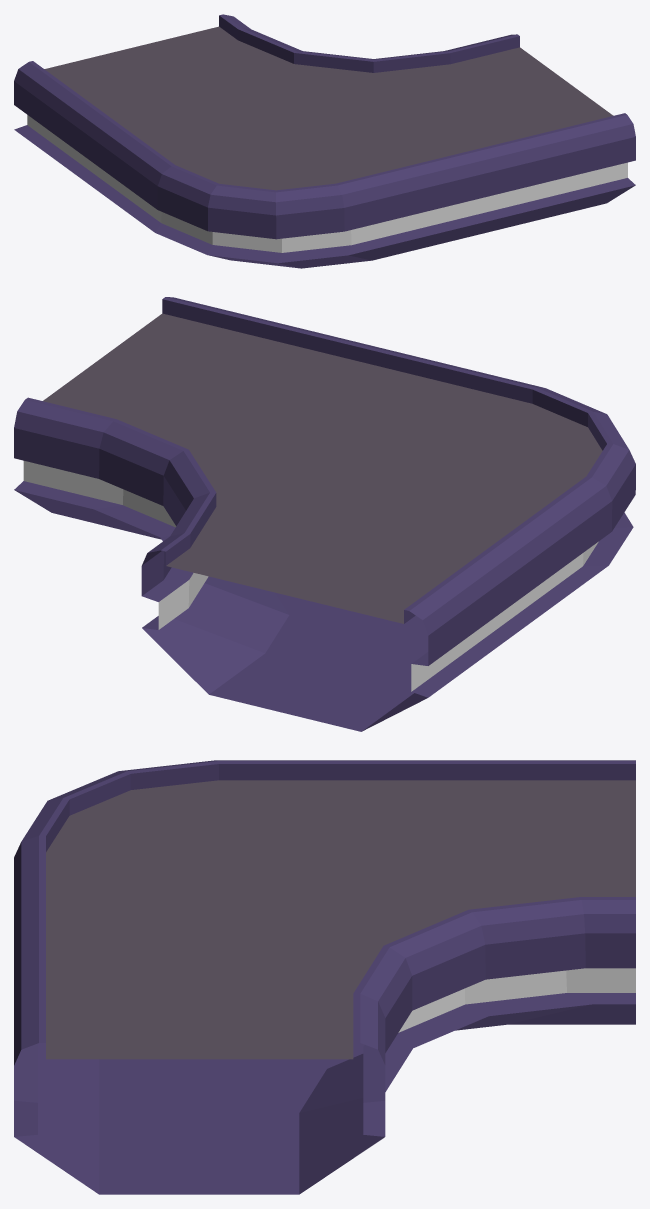
The model's file is Routes_Angle.fbx.
3 views of the same model, one above another, from view 1: azimuth 30°, elevation 25°; view 2: azimuth 150°, elevation 25°; view 3: azimuth 270°, elevation 25° (orthographic). The views are drawn at different scales.
Visible parts, largest first — view 1: Route_Angle; view 2: Route_Angle; view 3: Route_Angle.
Part boxes in pixels (x1,y1,x2,y2): Route_Angle: (14,14,635,268); Route_Angle: (14,297,635,731); Route_Angle: (14,760,635,1194).
Bounding box in the file's own units: 166 × 40.21 × 149.
